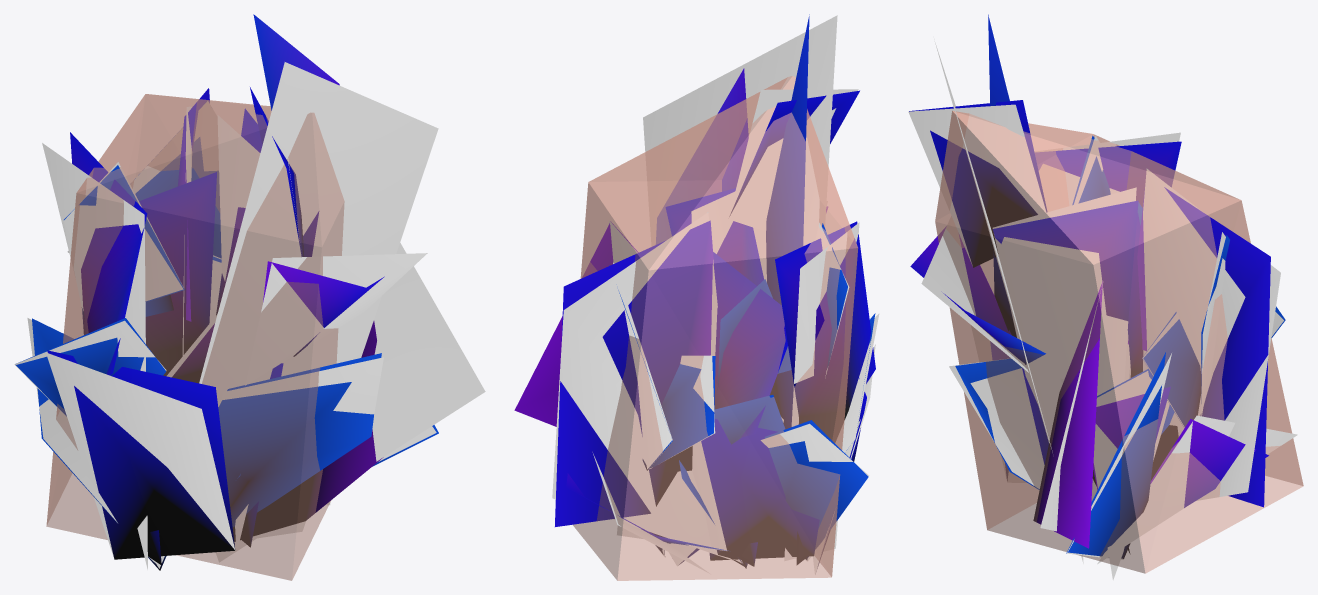
File: Juniper_bush_medium_01.dae
The picture shows the model from 3 angles, left to right: view 1: azimuth 30°, elevation 25°; view 2: azimuth 150°, elevation 25°; view 3: azimuth 270°, elevation 25°; orthographic projection. The views are drawn at different scales.
Visible parts, largest first — view 1: Juniper_medium_02_a80, Colmesh-1, Juniper_medium_02_a150; view 2: Colmesh-1, Juniper_medium_02_a80, Juniper_medium_02_a150; view 3: Colmesh-1, Juniper_medium_02_a80, Juniper_medium_02_a150.
Part boxes in pixels (left/top/right/bottom): Juniper_medium_02_a80: left=14, top=62, right=485, bottom=570; Colmesh-1: left=46, top=94, right=344, bottom=580; Juniper_medium_02_a150: left=16, top=14, right=438, bottom=570; Colmesh-1: left=573, top=76, right=858, bottom=580; Juniper_medium_02_a80: left=552, top=15, right=879, bottom=574; Juniper_medium_02_a150: left=514, top=14, right=875, bottom=568; Colmesh-1: left=935, top=110, right=1303, bottom=573; Juniper_medium_02_a80: left=908, top=39, right=1297, bottom=580; Juniper_medium_02_a150: left=909, top=14, right=1285, bottom=558.
Bounding box in the file's own units: 1.83 × 1.7 × 2.44.
